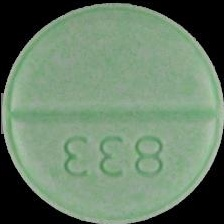21695-261: (0, 0, 224, 224)
